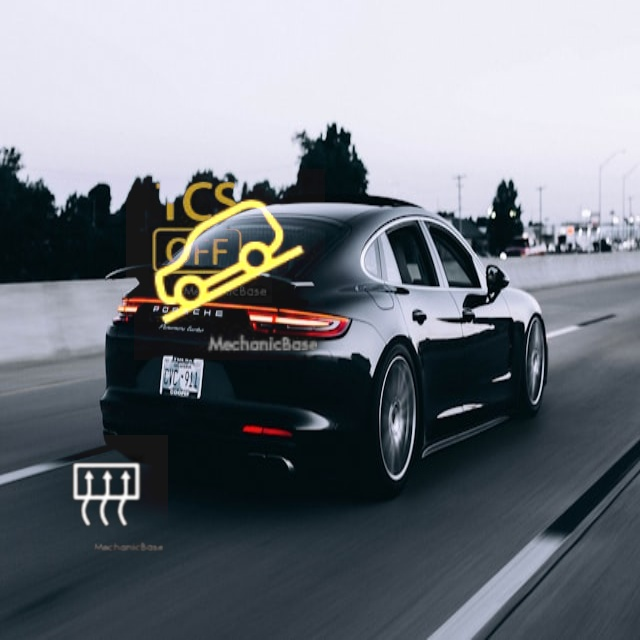symbol: (134, 169, 325, 360), (126, 157, 272, 303), (46, 435, 168, 557)
